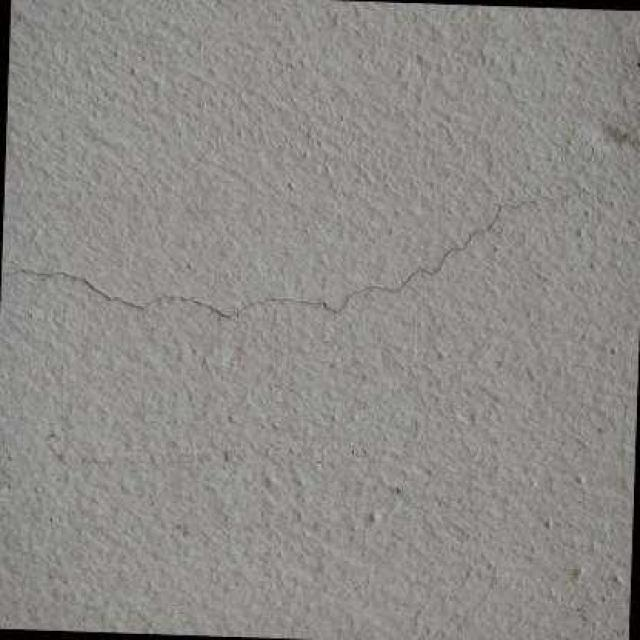D00: (1, 114, 640, 321)
